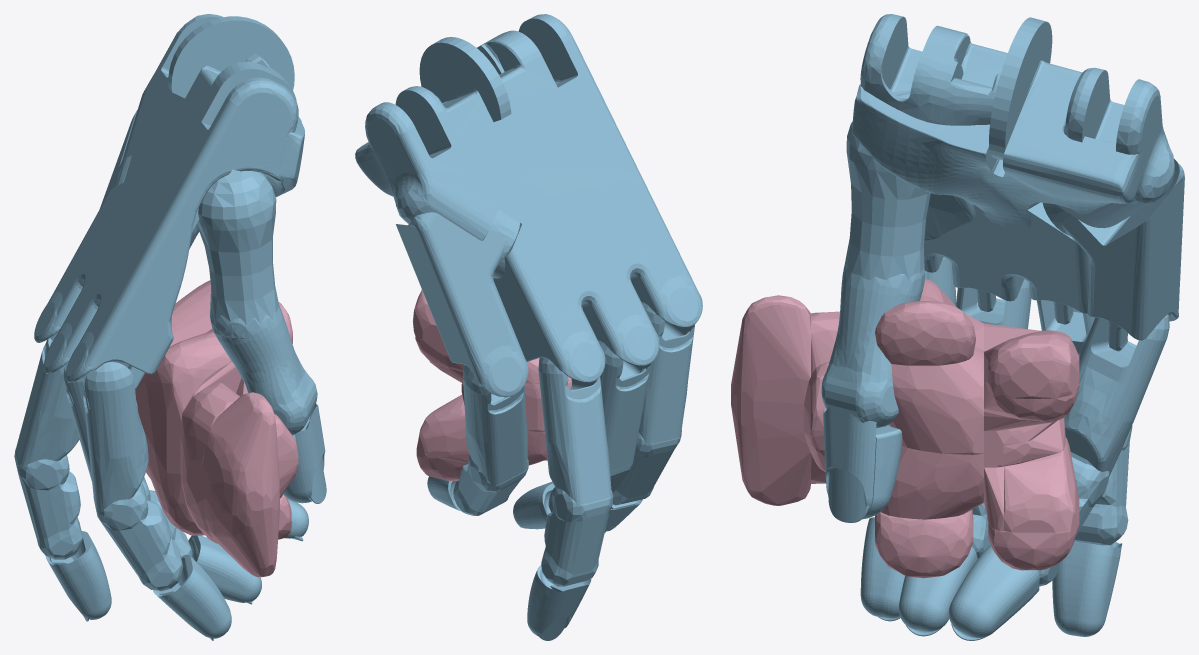
3 views of the same model, side by side, from view 1: azimuth 30°, elevation 25°; view 2: azimuth 150°, elevation 25°; view 3: azimuth 270°, elevation 25° (orthographic). The views are drawn at different scales.
Visible parts, largest first — view 1: hand_isaac_q, world; view 2: hand_isaac_q, world; view 3: hand_isaac_q, world.
Boxes of the visible parts, left/top/right/bottom form: hand_isaac_q: left=14, top=14, right=326, bottom=640; world: left=135, top=280, right=298, bottom=577; hand_isaac_q: left=355, top=14, right=702, bottom=640; world: left=412, top=290, right=571, bottom=481; hand_isaac_q: left=821, top=14, right=1184, bottom=640; world: left=731, top=278, right=1079, bottom=578.
Bounding box in the file's own units: 0.0992 × 0.2008 × 0.1217.
